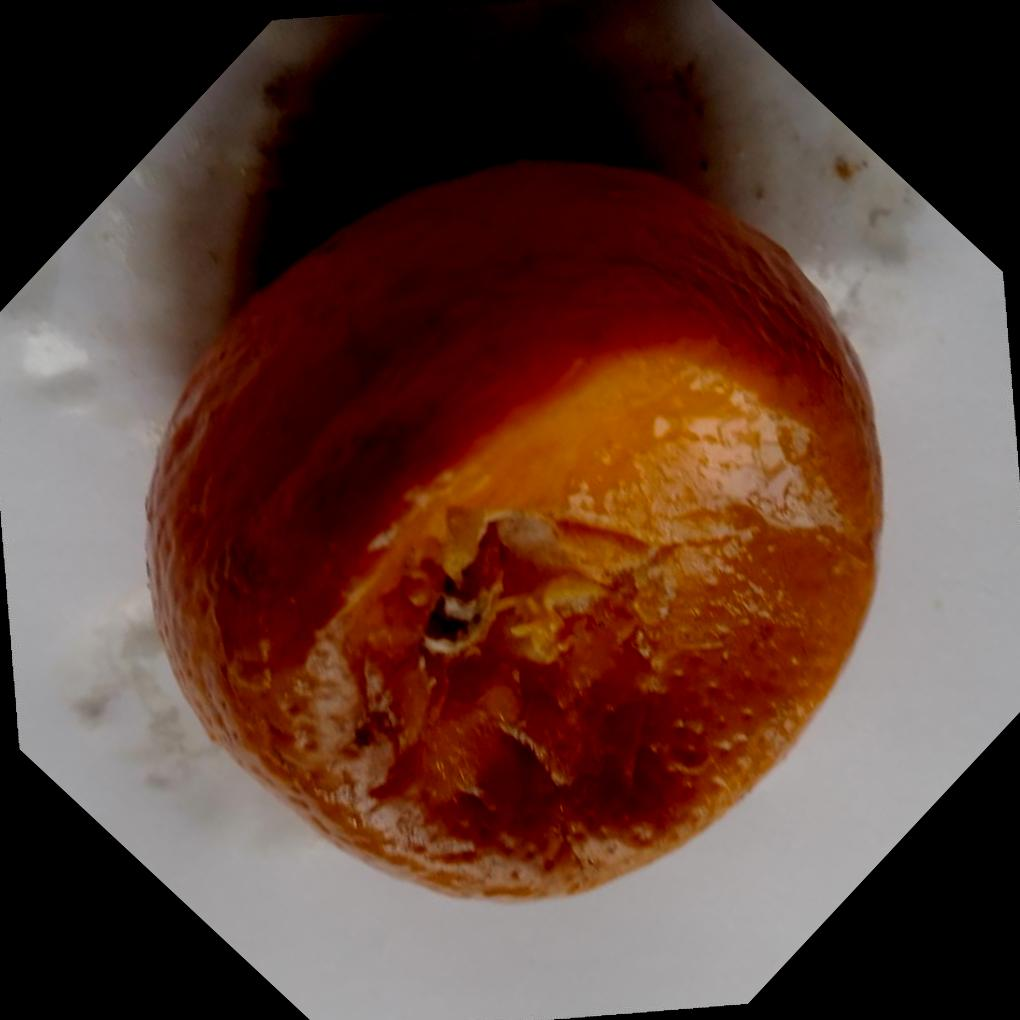FreshOrange: (140, 150, 883, 903)
